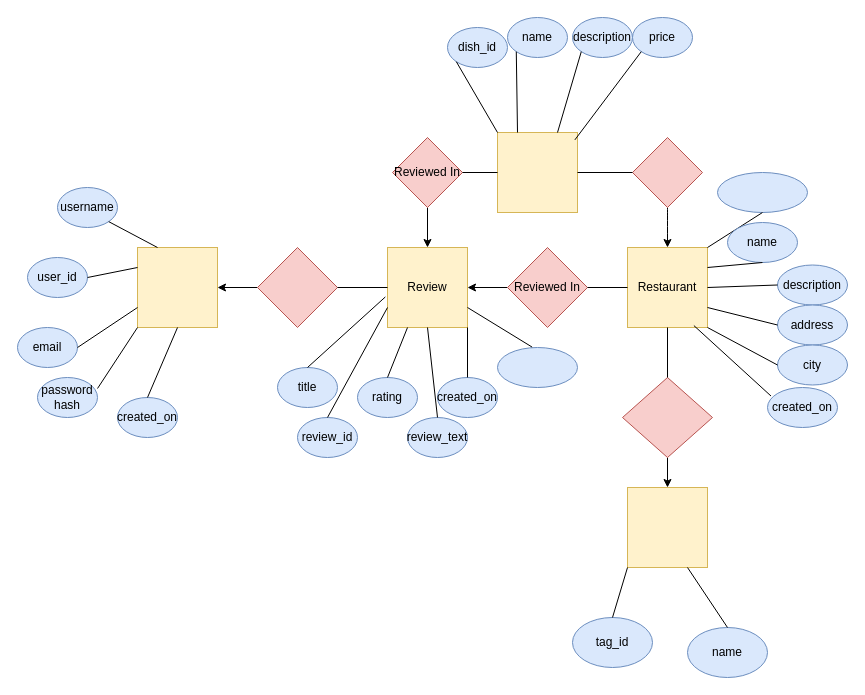
The diagram is 865 pixels wide and 695 high, and some of its shapes have lost their labels. The shapes that lost their labels are listed below. From the top down, each one's centre as x and y in pixels, then its label:
(537,172): Dish
(667,172): Offers
(762,192): restauraunt_id
(177,287): User
(297,287): Writes
(537,367): num_upvotes
(667,417): Categorizes
(667,527): Tag
